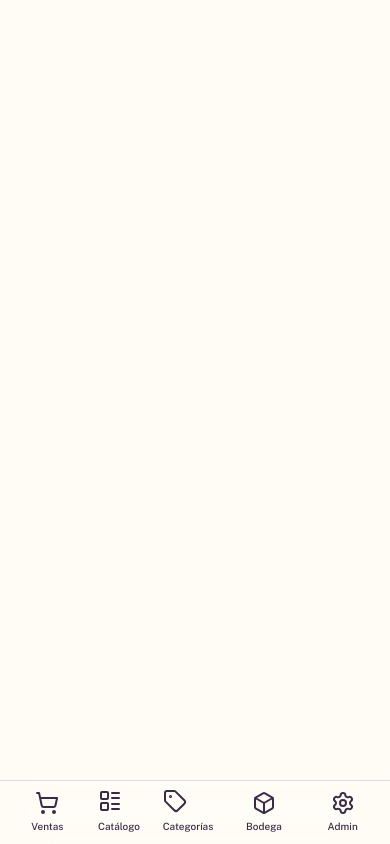
BottomNav — solo MVP (sheets abiertos) › sheet Bodega › SI contiene Ubicaciones, Registro de Notas (Despachos diferido)
Click the button "Bodega". click: click(264, 812)
box: [236,781,292,843]
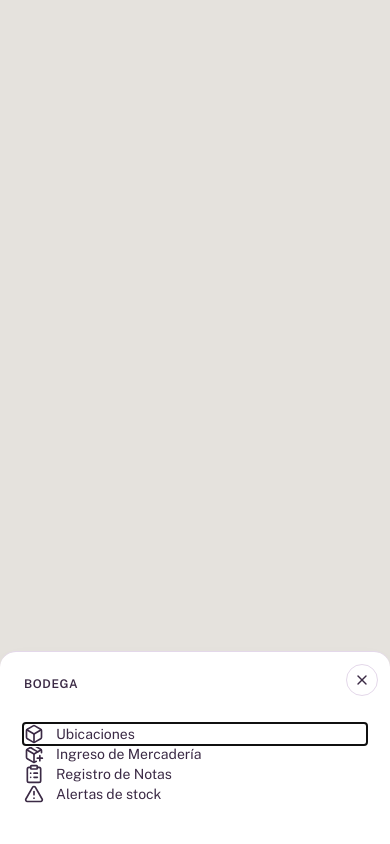
Expected: the text "Ubicaciones" is shown, [24,724,135,744]
Expected: the text "Registro de Notas" is shown, [24,764,172,784]
